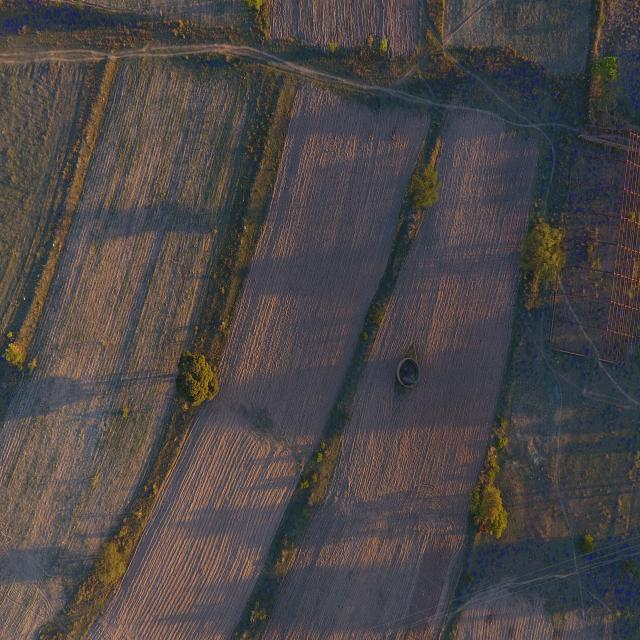boundaries: (62, 75, 315, 613), (234, 100, 461, 635), (4, 59, 127, 347)
